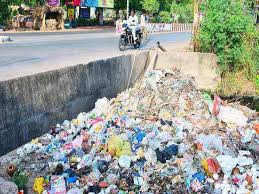garbage: (55, 123, 259, 193), (29, 143, 252, 194), (101, 96, 217, 194), (135, 82, 202, 194)
